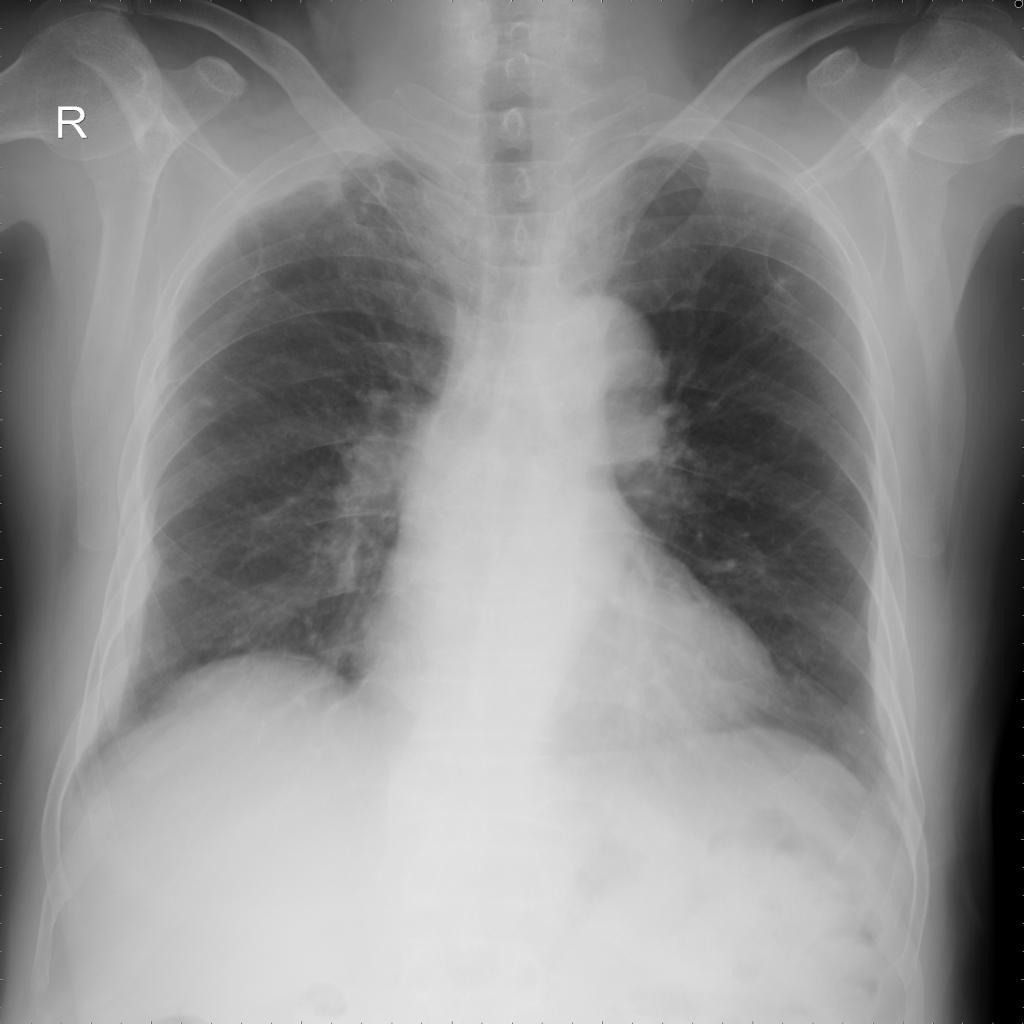Nodule: (198, 397, 217, 408), (254, 285, 260, 295)
